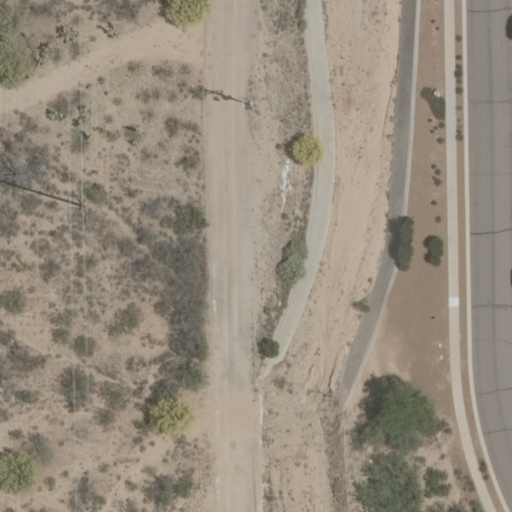DT: (62, 188, 89, 215)
